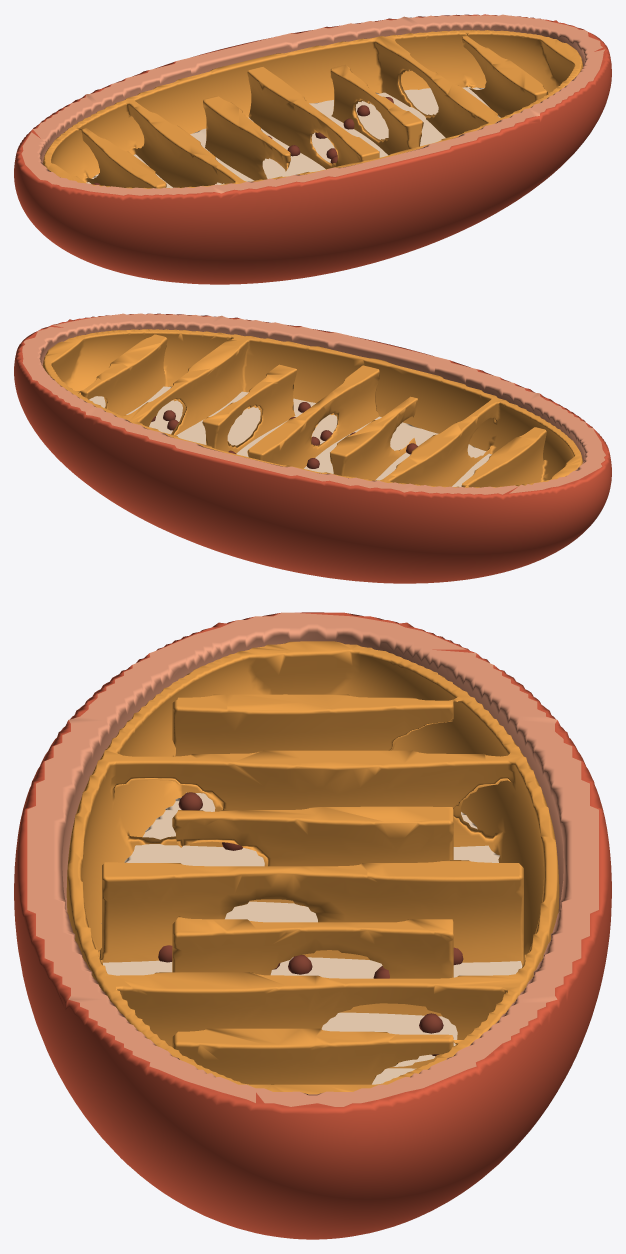
Rendered from mitochondrion.glb.
The picture shows the model from 3 angles, top to bottom: view 1: azimuth 30°, elevation 25°; view 2: azimuth 150°, elevation 25°; view 3: azimuth 270°, elevation 25°; orthographic projection. The views are drawn at different scales.
Visible parts, largest first — view 1: Mitochondrion; view 2: Mitochondrion; view 3: Mitochondrion.
Part boxes in pixels (x1,y1,x2,y2): Mitochondrion: [14, 14, 611, 284]; Mitochondrion: [14, 313, 611, 583]; Mitochondrion: [14, 612, 611, 1239].
Size of the model in its own units: 0.68 by 0.17 by 0.34.
